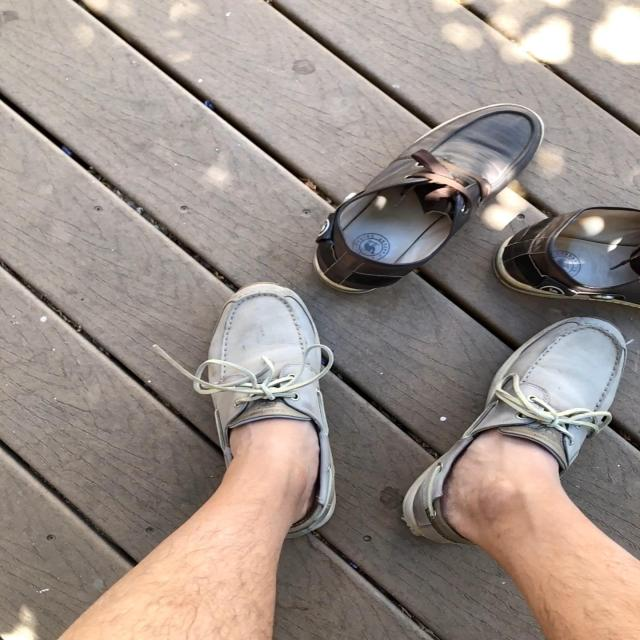shoe: (412, 314, 625, 538), (311, 102, 545, 285), (212, 279, 340, 527)
